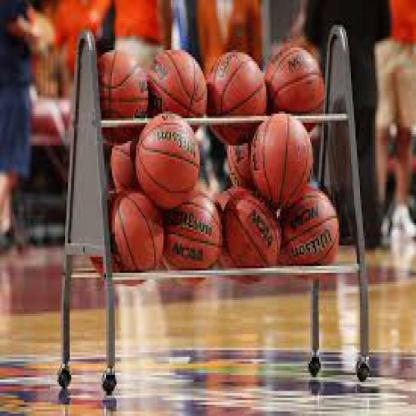basketball: (212, 186, 277, 282), (157, 193, 221, 289), (135, 111, 198, 207), (249, 113, 312, 207), (263, 46, 325, 136), (88, 50, 148, 143), (206, 52, 266, 144), (279, 186, 339, 276), (103, 186, 163, 276), (110, 127, 171, 212), (150, 50, 206, 138), (226, 118, 283, 196)
